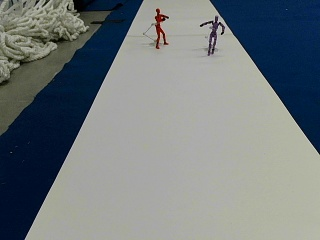pedestrian: (199, 14, 224, 54), (153, 7, 169, 48)
